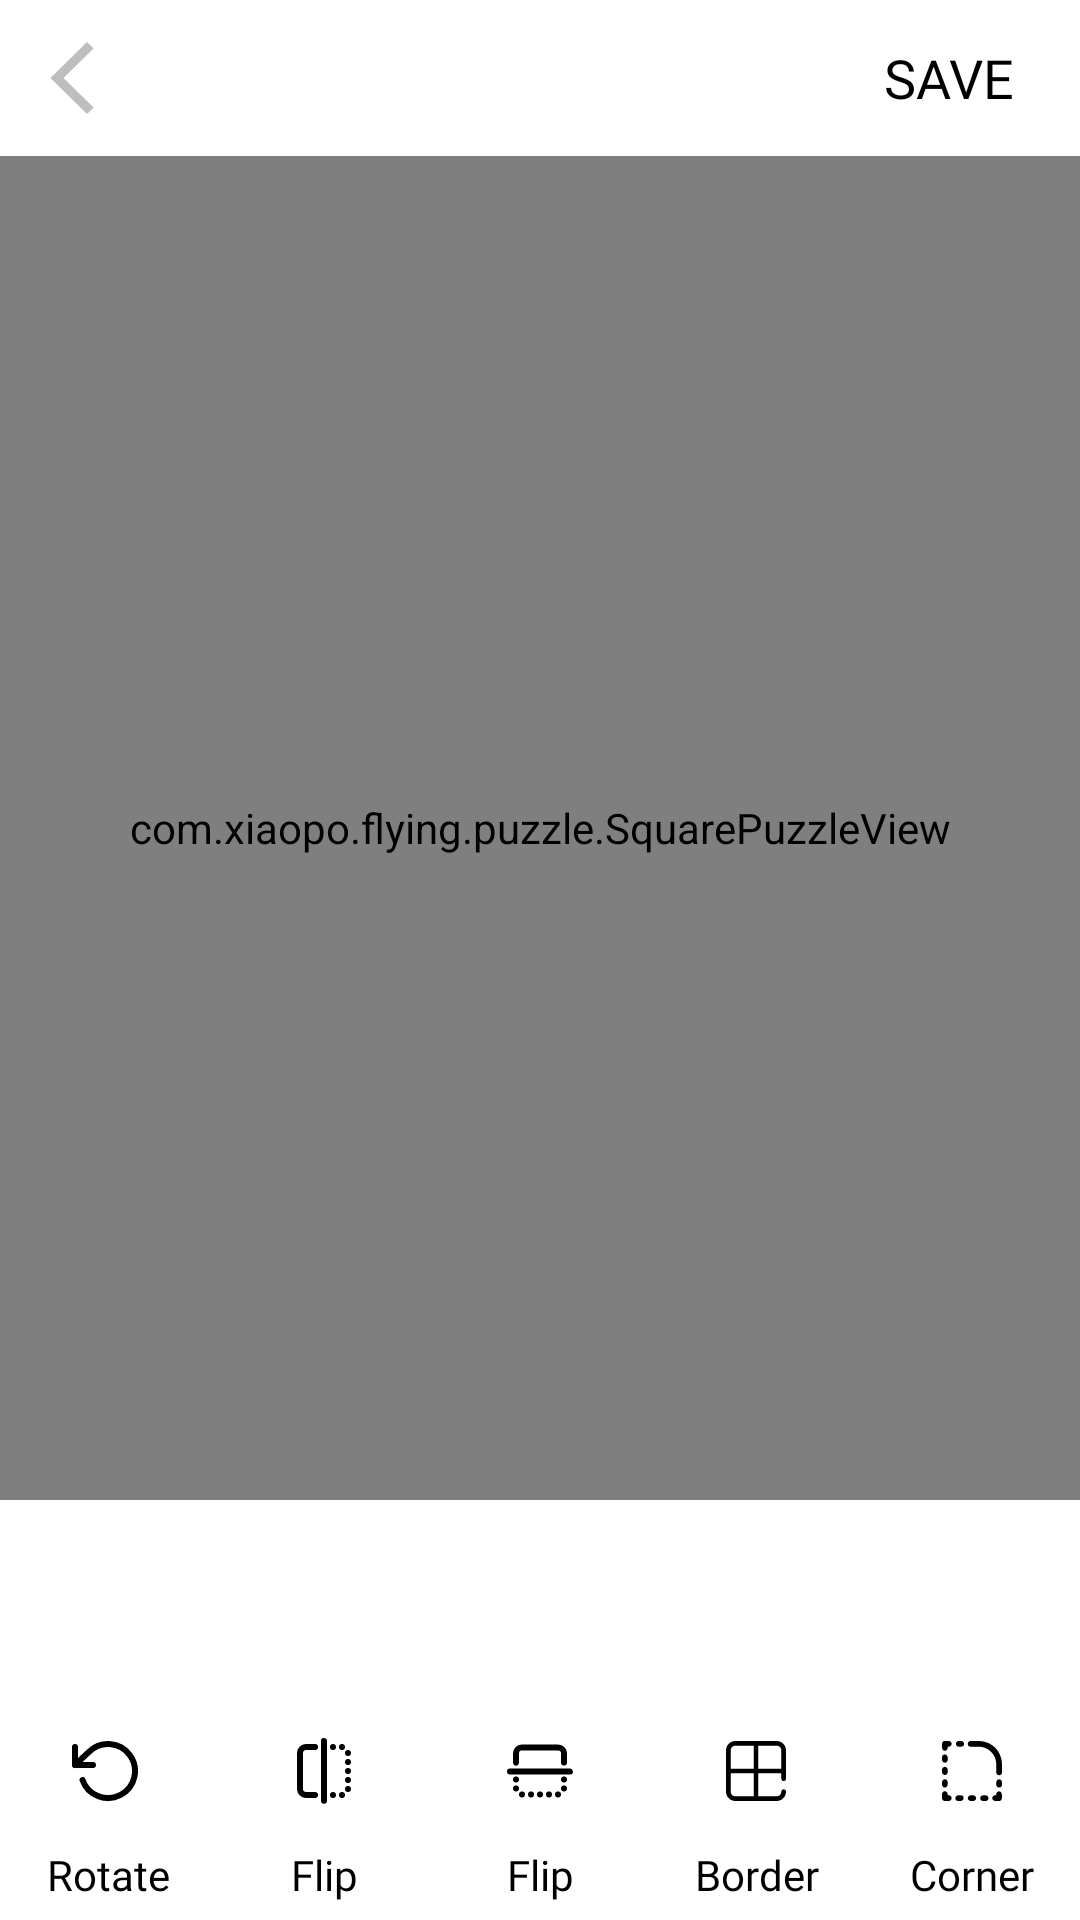

Named icons in this screenshot (1080×1920) and their bounding boxes, (x1, y1, x2, y2):
arrow back: (51, 42, 93, 114)
